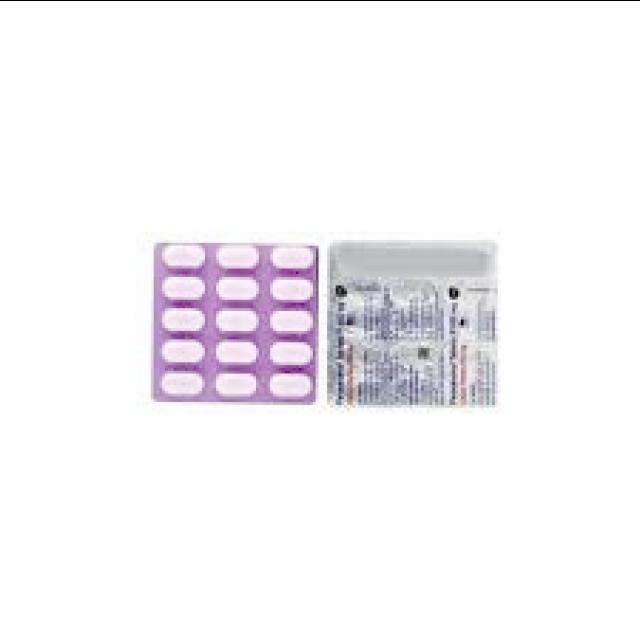authentic: (316, 223, 514, 421), (135, 227, 330, 417)
